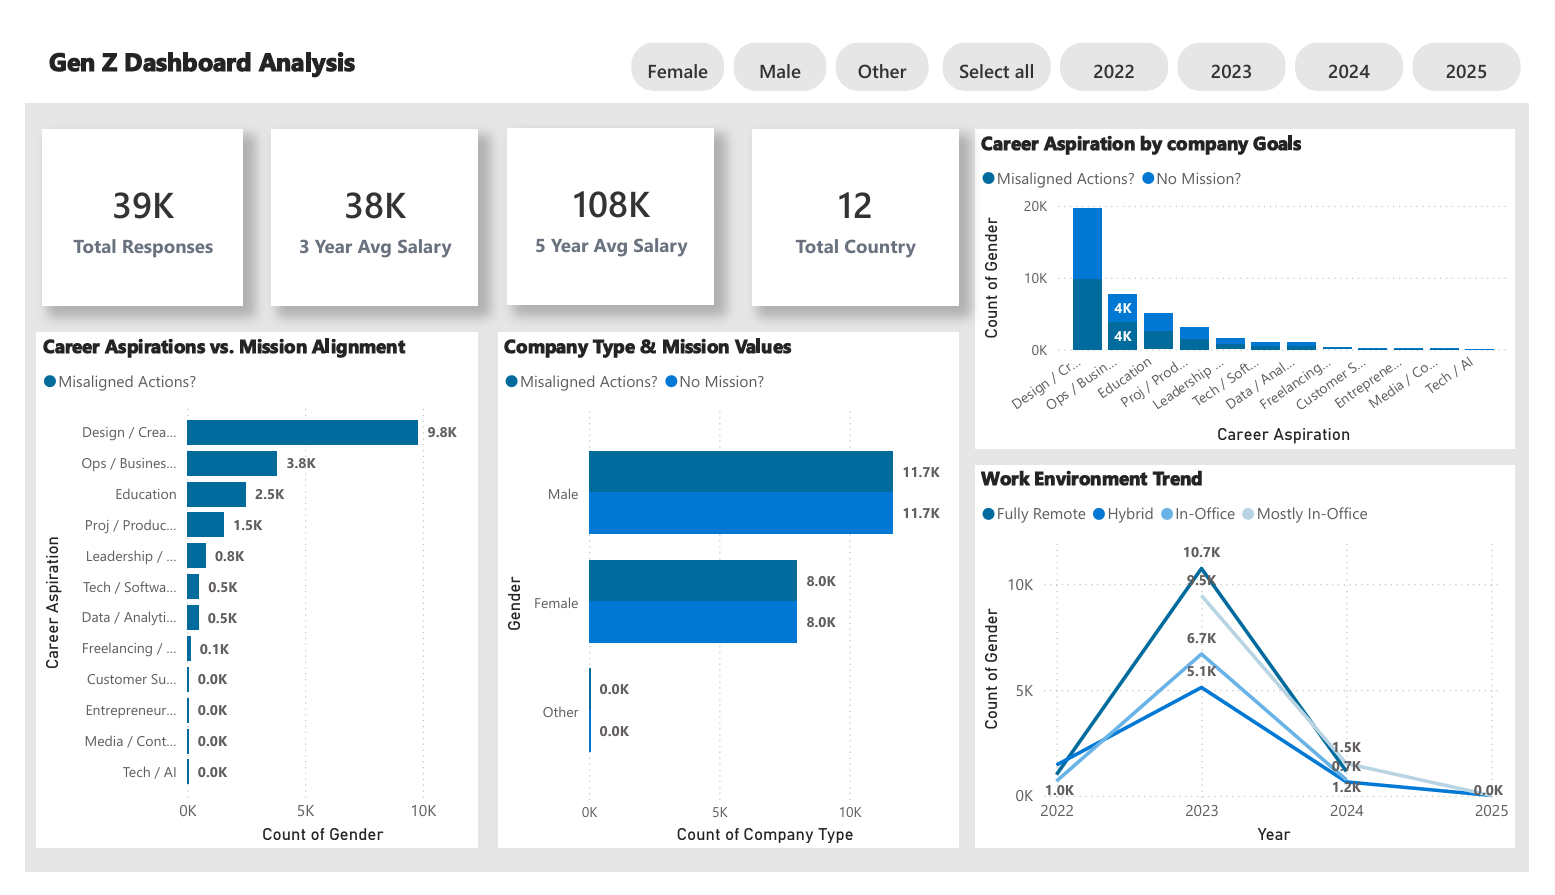

What the dashboard file says about the page in this screenshot:
{"tool":"powerbi","page":{"name":"Mission Aspirations Dashboard","canvas":[1280,720],"ordinal":1},"visuals":[{"type":"shape","box":[0,0,1280,65],"z":0},{"type":"textbox","box":[15,10,300,45],"z":1000},{"type":"columnChart","title":"Career Aspiration by company Goals","fields":{"Category":["Career Aspiration.Career Aspiration"],"Series":["Career Aspiration.Attribute"],"Y":["CountNonNull(Career Aspiration.Gender)"]},"box":[808.8,87.5,458.8,272.5],"z":2000},{"type":"barChart","title":"Career Aspirations vs. Mission Alignment","fields":{"Category":["Career Aspiration.Career Aspiration"],"Y":["CountNonNull(Career Aspiration.Gender)"],"Series":["Career Aspiration.Attribute"]},"box":[10,261.2,376.2,438.8],"z":3000},{"type":"clusteredBarChart","title":"Company Type & Mission Values","fields":{"Y":["CountNonNull(Career Aspiration.Company Type)"],"Category":["Career Aspiration.Gender"],"Series":["Career Aspiration.Attribute"]},"box":[402.5,261.2,392.5,438.8],"z":4000},{"type":"lineChart","title":"Work Environment Trend","fields":{"Category":["Career Aspiration.Year"],"Y":["CountNonNull(Career Aspiration.Gender)"],"Series":["Career Aspiration.Work Environment"]},"box":[808.8,373.8,458.8,326.2],"z":5000},{"type":"advancedSlicerVisual","fields":{"Values":["Career Aspiration.Gender"]},"box":[511,9.4,265,51],"z":6000},{"type":"advancedSlicerVisual","fields":{"Values":["Career Aspiration.Year"]},"box":[776,9.4,504,51],"z":7000},{"type":"card","fields":{"Values":["Career Aspiration.Total Responses"]},"box":[15,87.5,171.2,150],"z":8000},{"type":"card","fields":{"Values":["Career Aspiration.Average 3 yr Min Salary"]},"box":[210,87.5,176.2,150],"z":9000},{"type":"card","fields":{"Values":["Career Aspiration.Average 5 Yr min Salary"]},"box":[410.8,86.9,176.2,150],"z":10000},{"type":"card","fields":{"Values":["Count(Career Aspiration.Country)"]},"box":[619.2,87.7,176.2,150],"z":11000}]}

Visuals, with their boxes in screenshot pixels (x1, y1, x2, y2), scaled from the page's 1280x720 canvas onto the 1555x895 screenshot:
shape: 0:0:1554:81
textbox: 18:12:383:68
"Career Aspiration by company Goals" columnChart: 983:109:1540:448
"Career Aspirations vs. Mission Alignment" barChart: 12:325:469:870
"Company Type & Mission Values" clusteredBarChart: 489:325:966:870
"Work Environment Trend" lineChart: 983:465:1540:870
advancedSlicerVisual - Career Aspiration.Gender: 621:12:943:75
advancedSlicerVisual - Career Aspiration.Year: 943:12:1554:75
card - Career Aspiration.Total Responses: 18:109:226:295
card - Career Aspiration.Average 3 yr Min Salary: 255:109:469:295
card - Career Aspiration.Average 5 Yr min Salary: 499:108:713:294
card - Count(Career Aspiration.Country): 752:109:966:295
